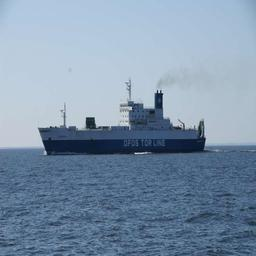Ship: (37, 91, 213, 158)
